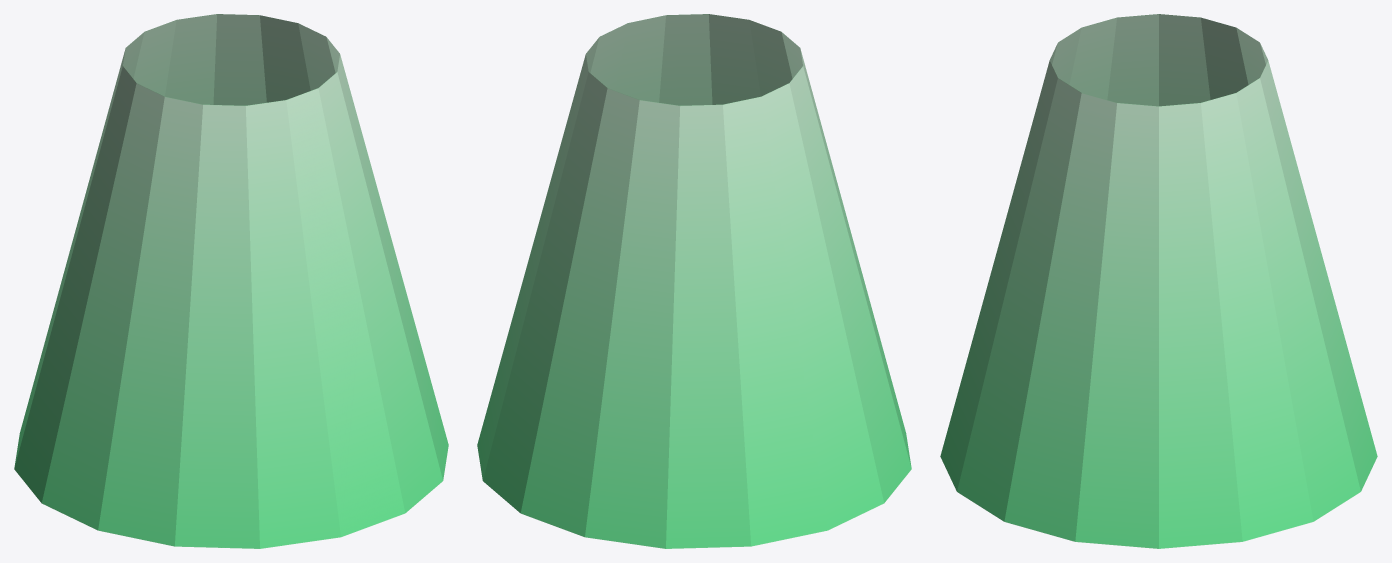
File: TractorBeam.fbx
3 views of the same model, side by side, from view 1: azimuth 30°, elevation 25°; view 2: azimuth 150°, elevation 25°; view 3: azimuth 270°, elevation 25° (orthographic).
Visible parts, largest first — view 1: TractorBeam; view 2: TractorBeam; view 3: TractorBeam.
Boxes of the visible parts, <box> form: TractorBeam: <box>14,14,448,548</box>; TractorBeam: <box>477,14,911,548</box>; TractorBeam: <box>940,14,1377,548</box>.
Bounding box in the file's own units: 100 × 100 × 100.
1 material, 1 textured.
